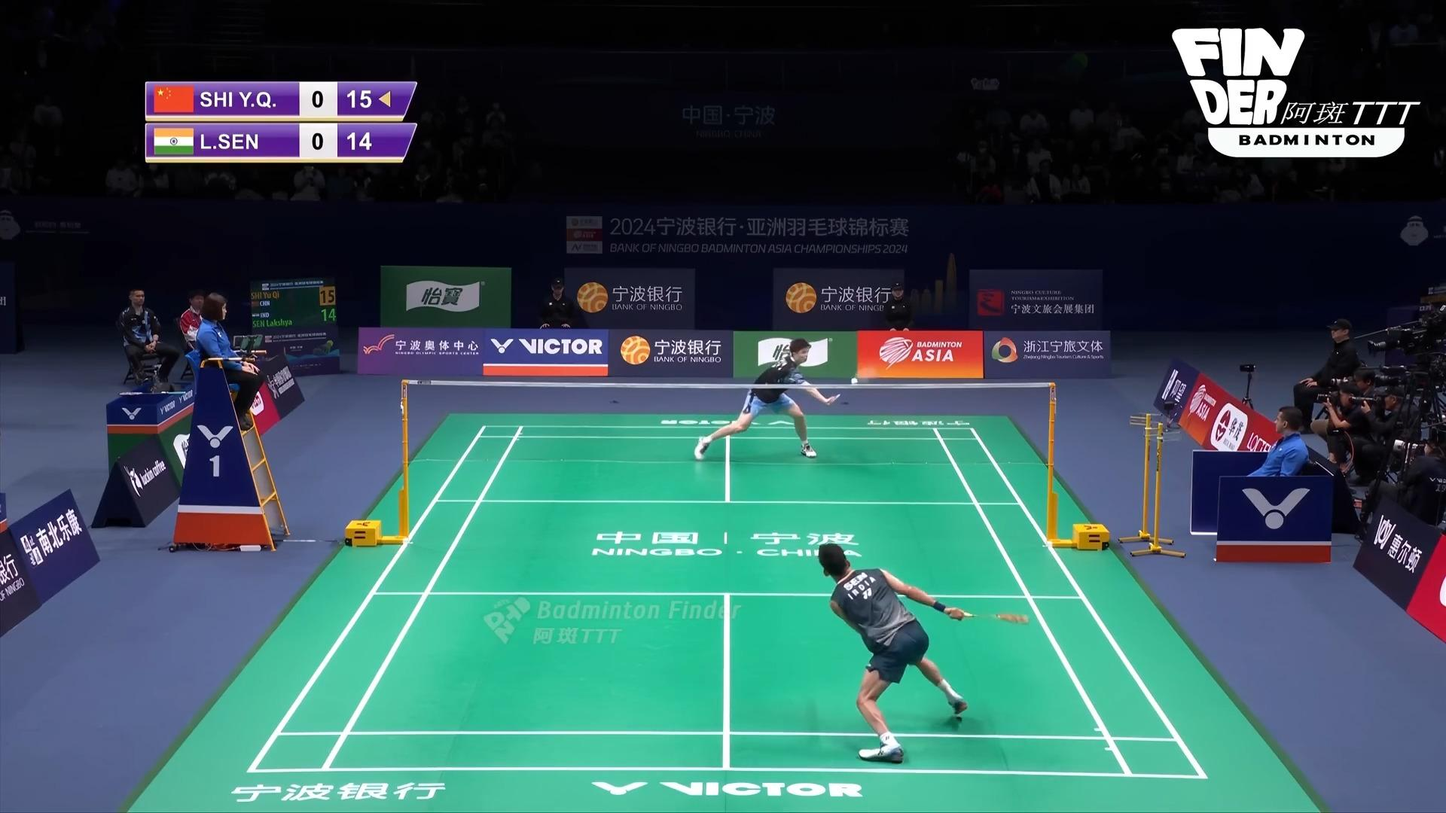player: (816, 543, 969, 762), (694, 339, 836, 460)
